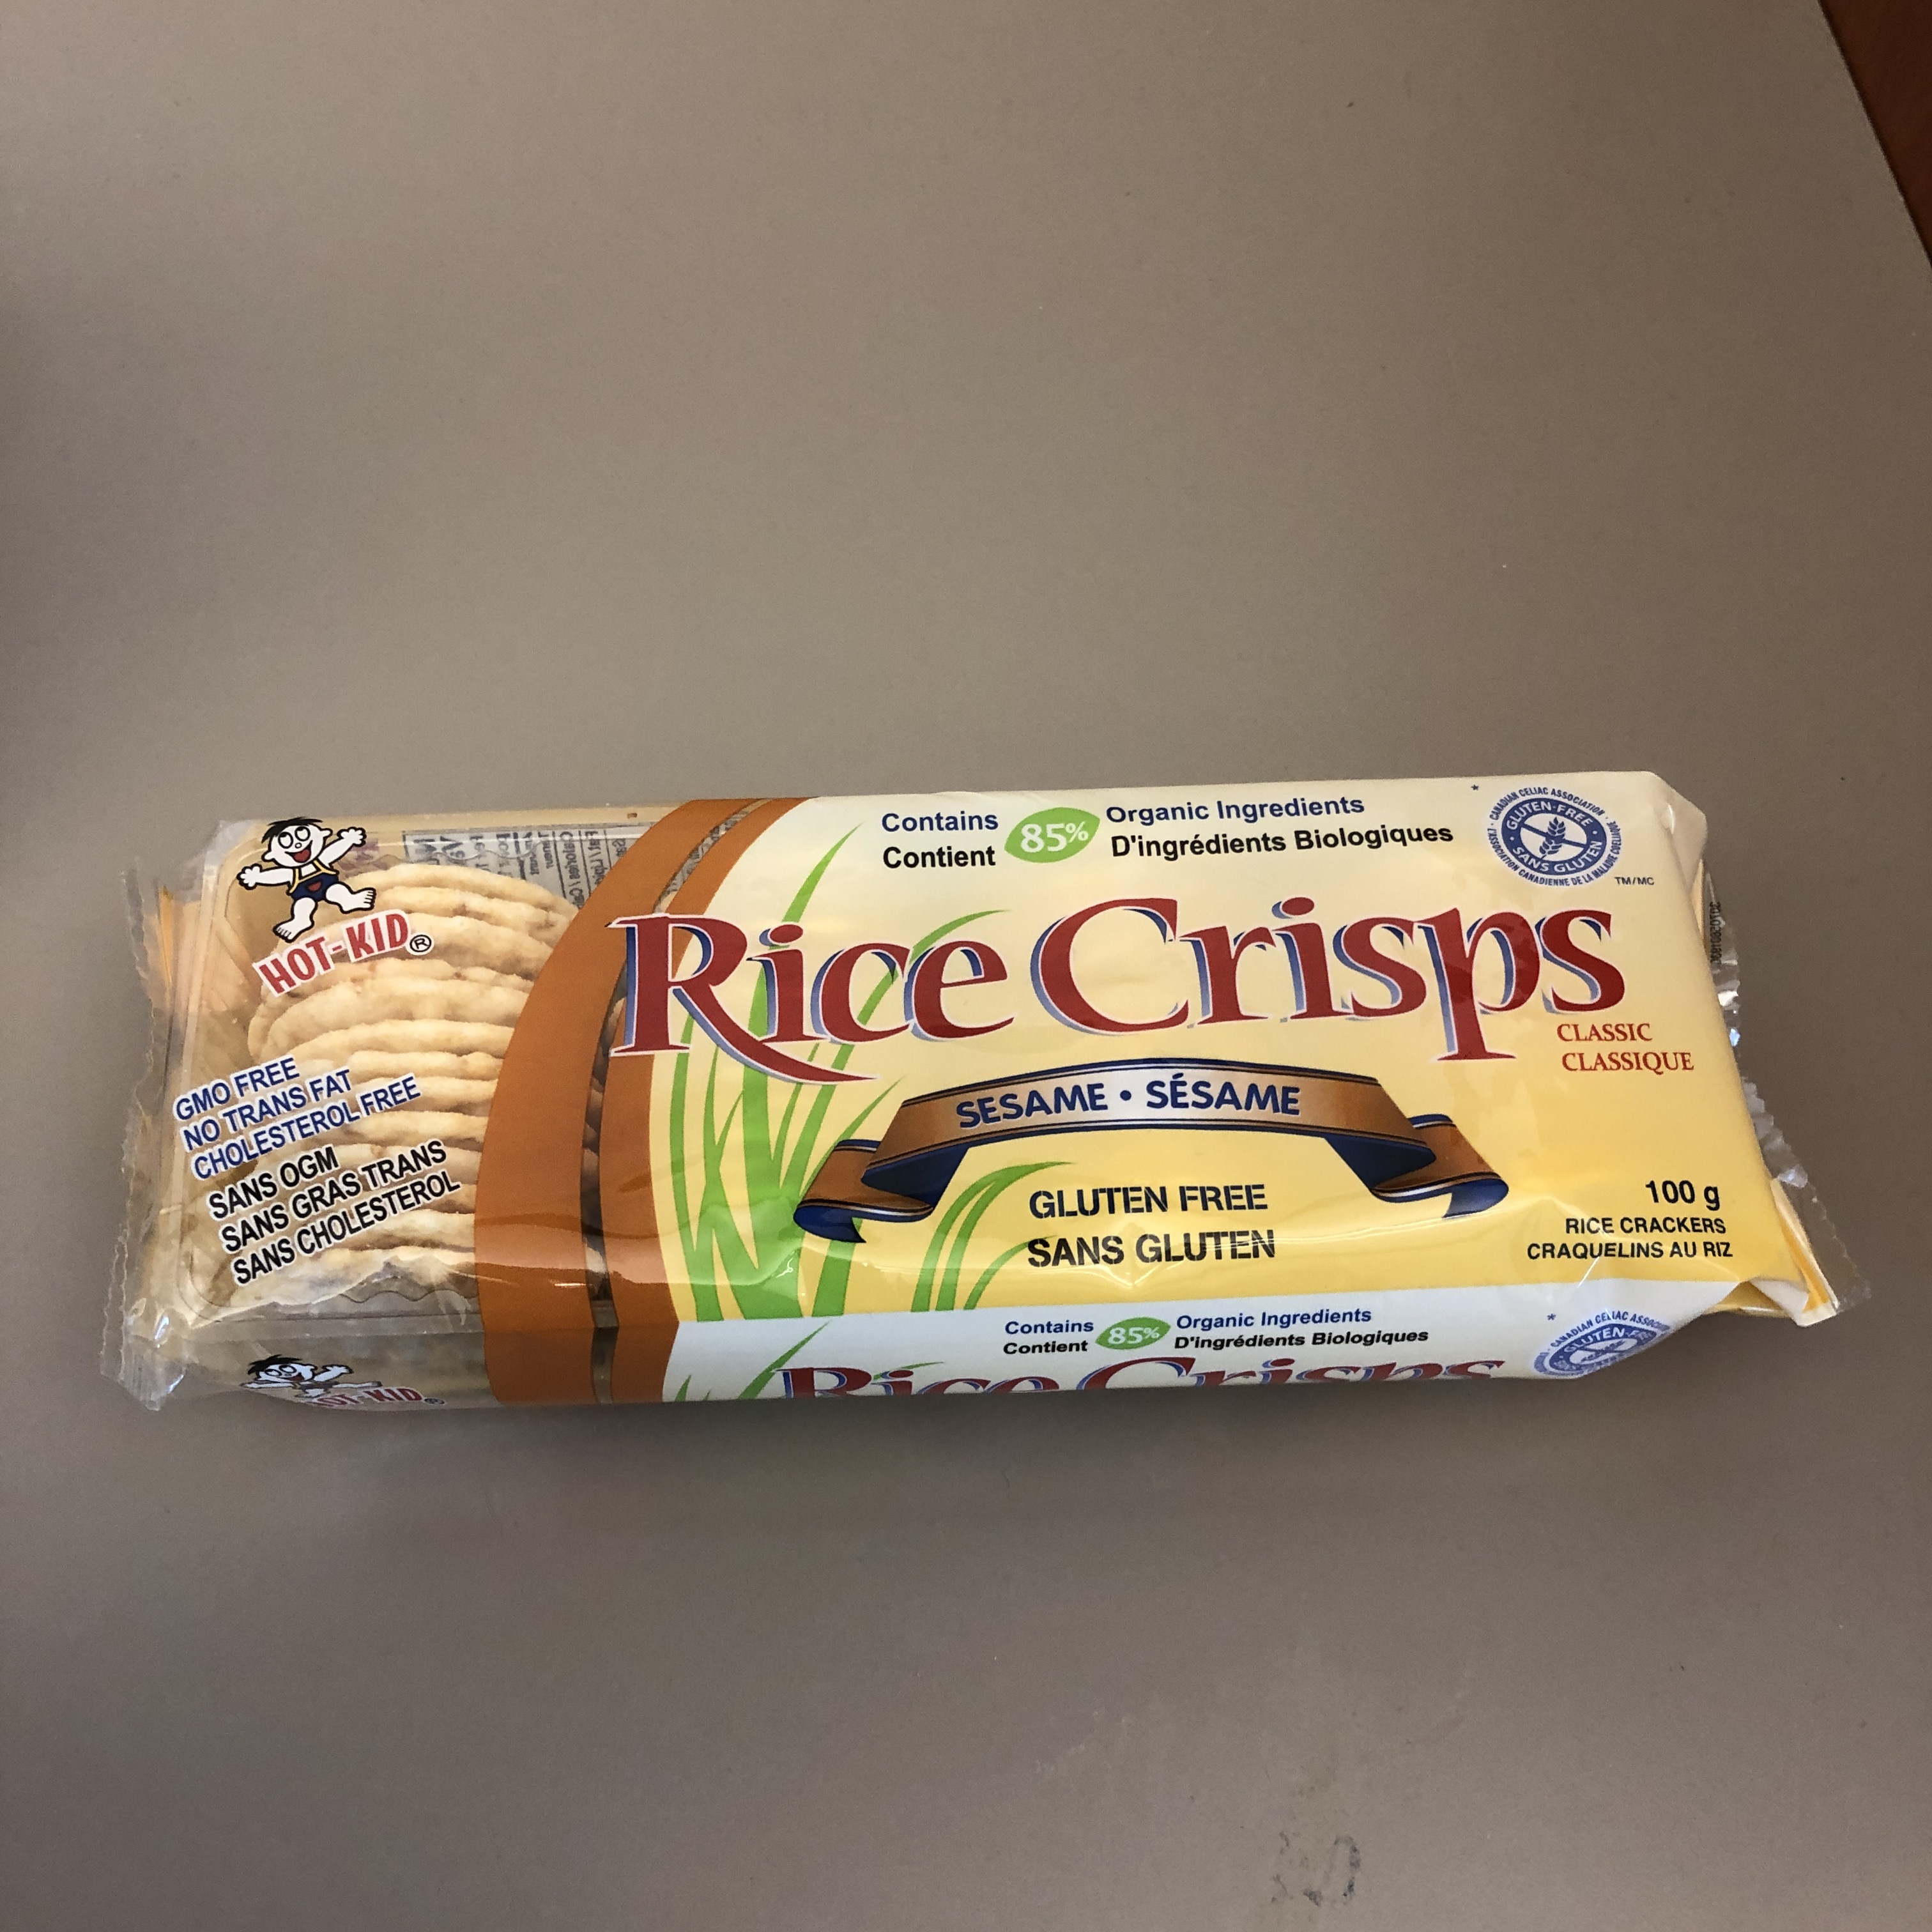hot_kid_rice_crisps_sesame: (776, 222, 1404, 1816)
